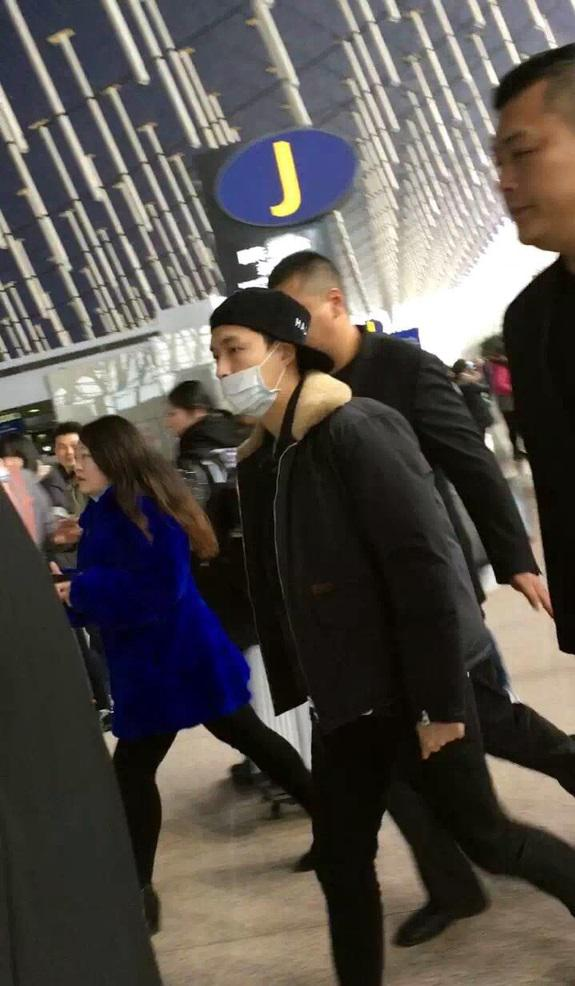NONE: (492, 119, 575, 254), (75, 442, 114, 498)
WRONG: (208, 328, 295, 420)
